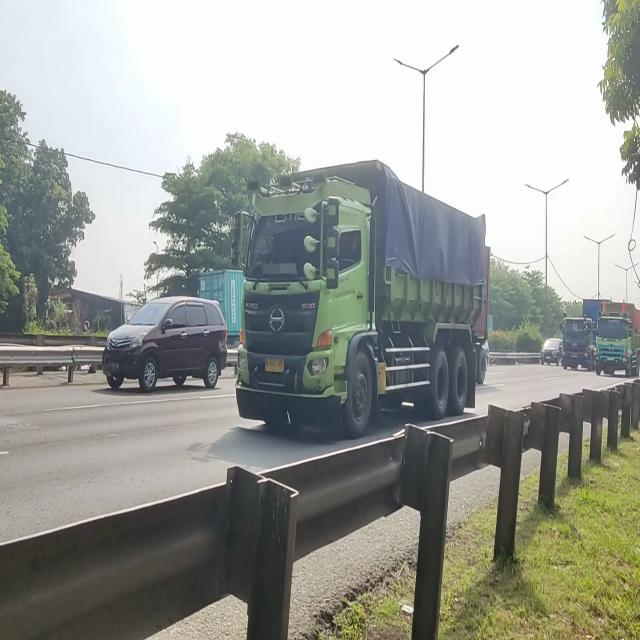Golongan I: (94, 280, 230, 397)
Golongan III: (232, 166, 488, 441)
